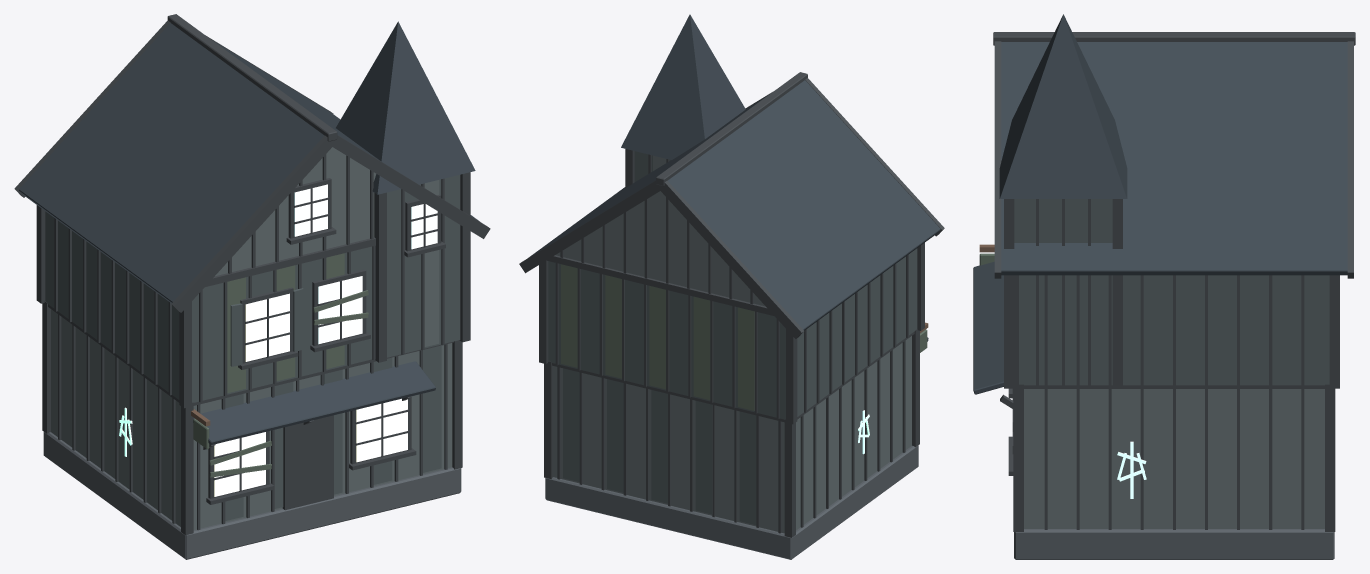
File: outdoor_shop.glb
3 views of the same model, side by side, from view 1: azimuth 30°, elevation 25°; view 2: azimuth 150°, elevation 25°; view 3: azimuth 270°, elevation 25° (orthographic). The views are drawn at different scales.
Parts seen in each view (by area): view 1: Outdoor_Shop; view 2: Outdoor_Shop; view 3: Outdoor_Shop.
Part boxes in pixels (x1=…): Outdoor_Shop: x1=14, y1=14, x2=490, y2=559; Outdoor_Shop: x1=519, y1=14, x2=944, y2=559; Outdoor_Shop: x1=973, y1=14, x2=1355, y2=559.
Size of the model in its own units: 8.7 by 12.25 by 8.1.
